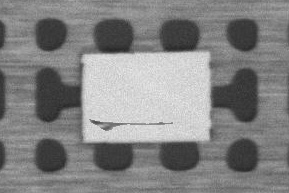DIE_INK: (126, 77, 259, 89)
